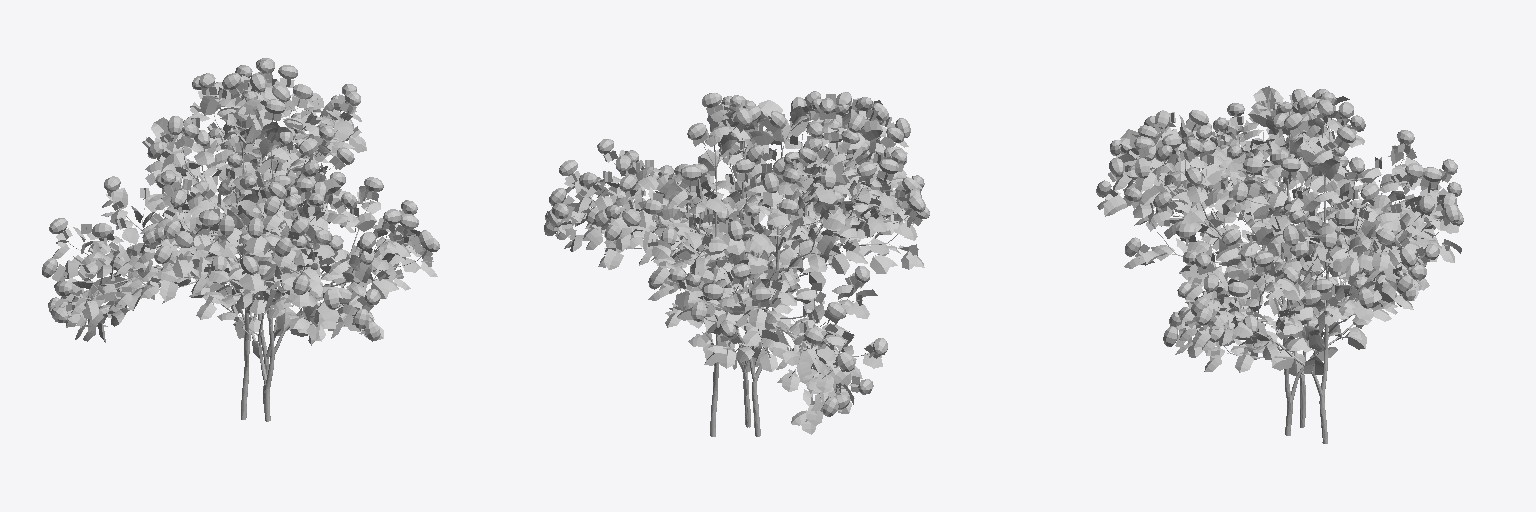
The model's file is Bush rose Sanina N060617.obj.
3 views of the same model, side by side, from view 1: azimuth 30°, elevation 25°; view 2: azimuth 150°, elevation 25°; view 3: azimuth 270°, elevation 25° (orthographic).
Parts seen in each view (by area): view 1: rosa_Sanina; view 2: rosa_Sanina; view 3: rosa_Sanina.
Boxes of the visible parts, x1=… form: rosa_Sanina: x1=42, y1=58, x2=439, y2=421; rosa_Sanina: x1=544, y1=91, x2=929, y2=436; rosa_Sanina: x1=1096, y1=86, x2=1463, y2=443.
Size of the model in its own units: 72.21 by 74.35 by 72.33.